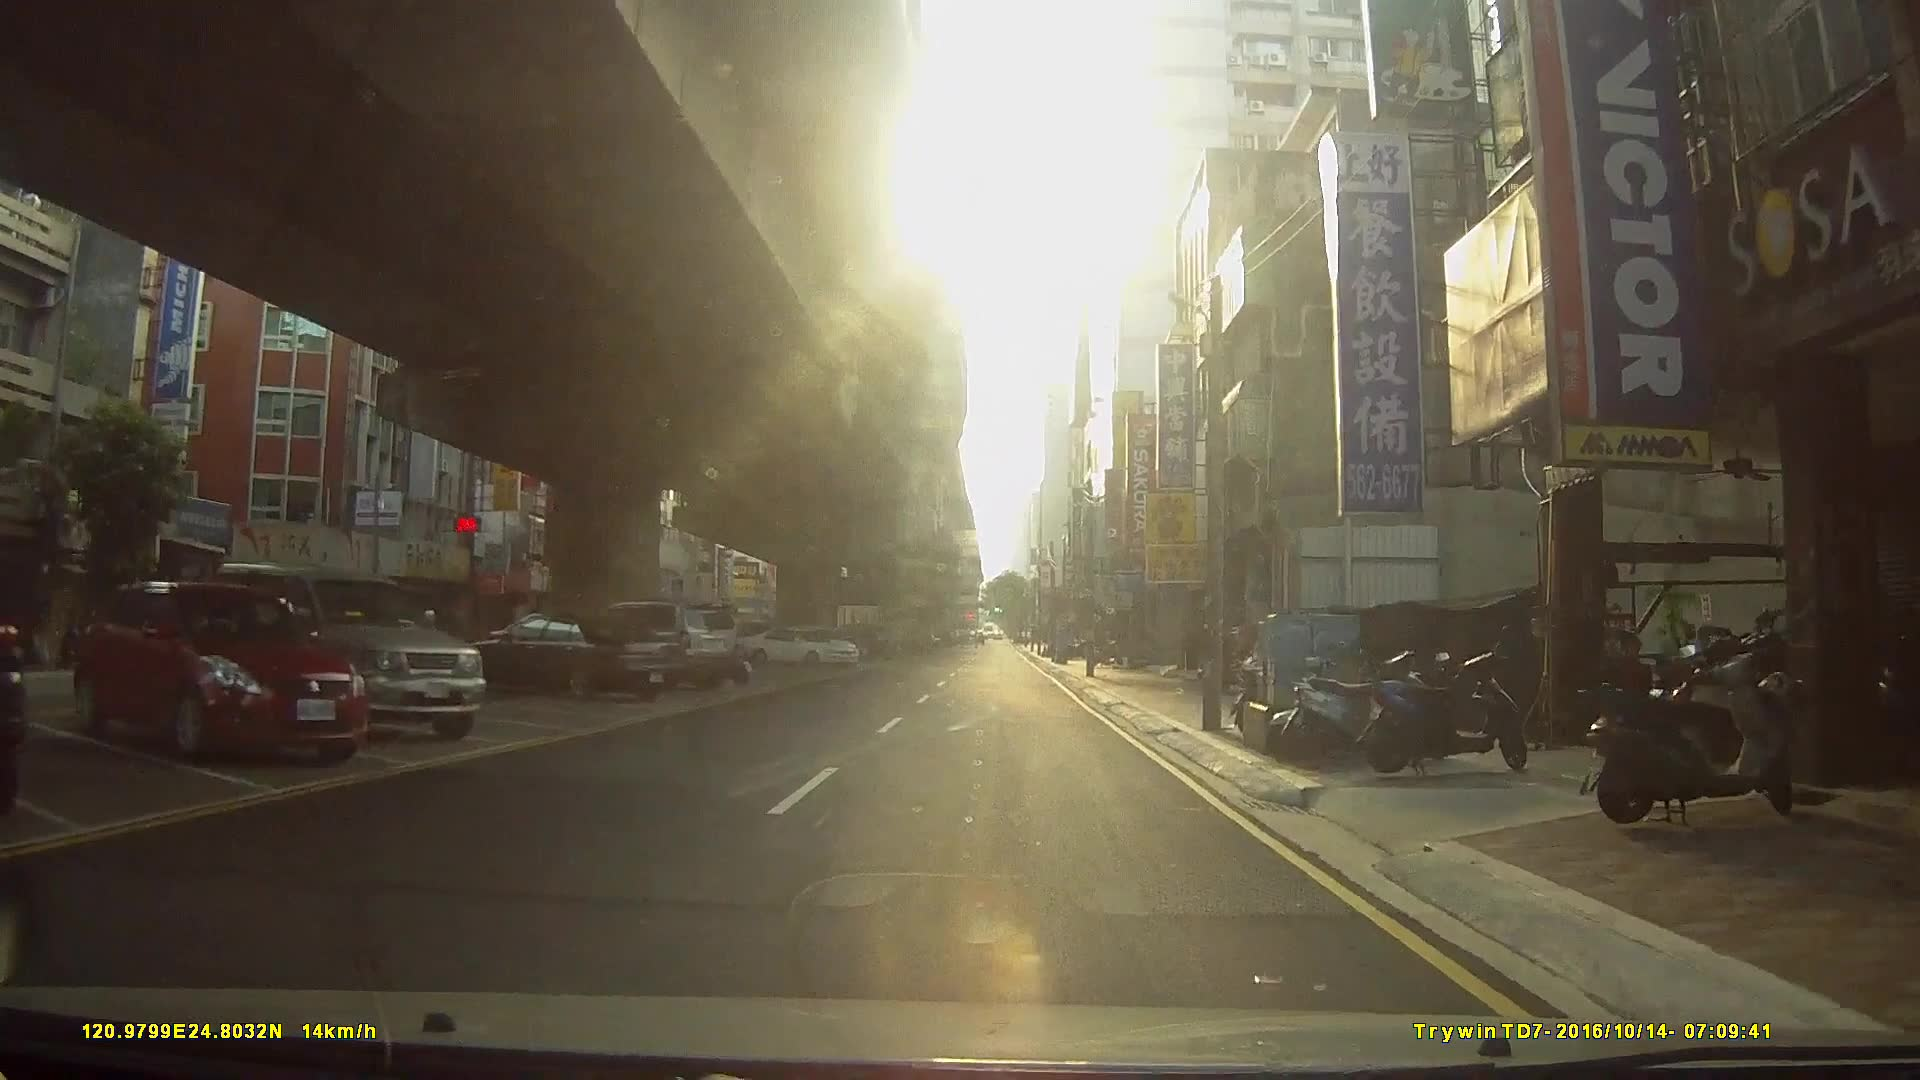vehicle: (70, 580, 367, 764), (208, 560, 487, 748), (472, 613, 686, 704), (574, 600, 738, 694), (742, 625, 862, 669)
